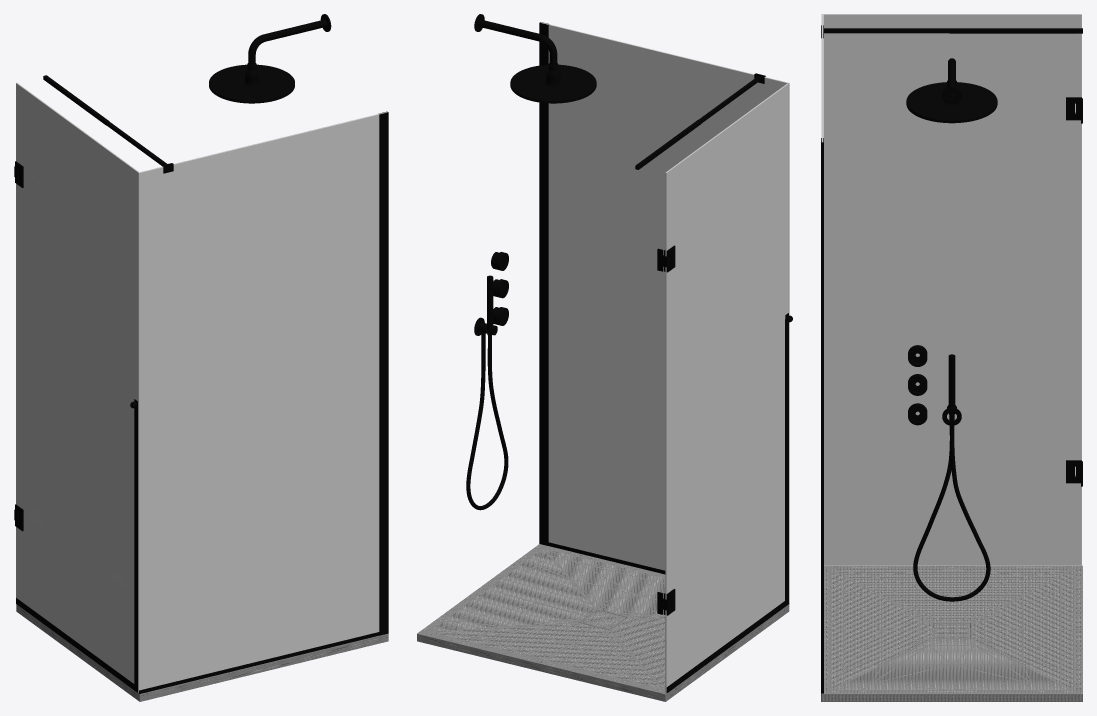
Rendered from 799078e8-ec18-401d-a435-3d92aac75d73.glb.
3 renders of one model, left to right at view 1: azimuth 30°, elevation 25°; view 2: azimuth 150°, elevation 25°; view 3: azimuth 270°, elevation 25°, orthographic. The views are drawn at different scales.
Parts seen in each view (by area): view 1: Sphere002, Object644, Object646, Object636, Object645, Object647; view 2: Sphere002, Object644, Object645, Object636, Object646, Object647; view 3: Object644, Object645, Object636, Object646, Object647.
Boxes of the visible parts, x1,y1,x2,y2 form: Sphere002: (138,112,387,693); Object644: (16,83,138,692); Object646: (14,75,388,694); Object636: (209,14,331,103); Object645: (16,604,388,701); Object647: (15,161,137,692); Sphere002: (540,22,789,603); Object644: (665,83,788,693); Object645: (417,544,789,701); Object636: (466,14,596,510); Object646: (539,22,789,614); Object647: (664,245,792,693); Object644: (823,14,1081,565); Object645: (821,565,1082,701); Object636: (906,58,997,601); Object646: (821,25,1082,693); Object647: (1066,97,1081,483).
Bounding box in the file's own units: 1.02 × 2.23 × 0.8616.
3 materials, 1 textured.
